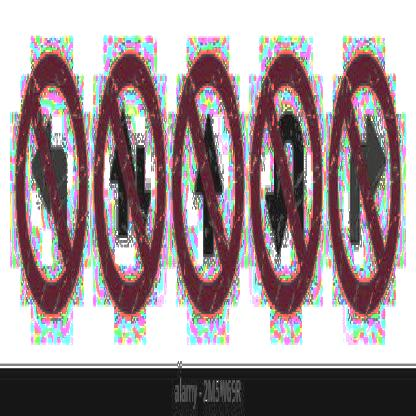No U-turn: (246, 50, 325, 318)
